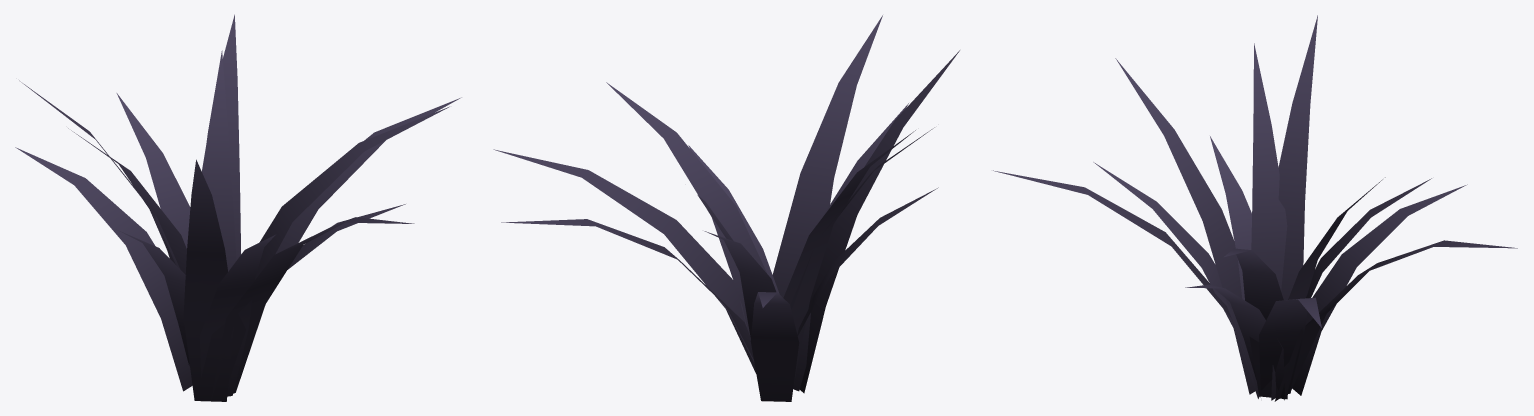
File: east_scorchgrass.glb
The picture shows the model from 3 angles, left to right: view 1: azimuth 30°, elevation 25°; view 2: azimuth 150°, elevation 25°; view 3: azimuth 270°, elevation 25°; orthographic projection. The views are drawn at different scales.
Parts seen in each view (by area): view 1: east_scorchgrass; view 2: east_scorchgrass; view 3: east_scorchgrass.
Part boxes in pixels (box(x1,y1,x2,y2)): east_scorchgrass: box(15, 14, 461, 401); east_scorchgrass: box(493, 15, 959, 401); east_scorchgrass: box(993, 15, 1517, 401).
Size of the model in its own units: 1.33 by 0.9542 by 1.5.
